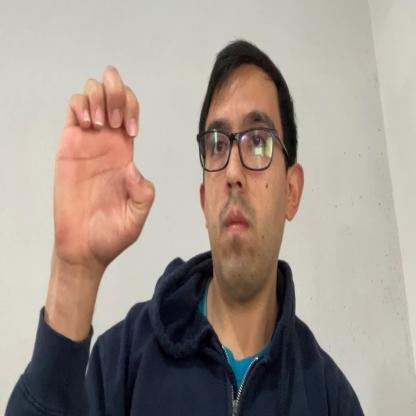E: (53, 65, 157, 273)
